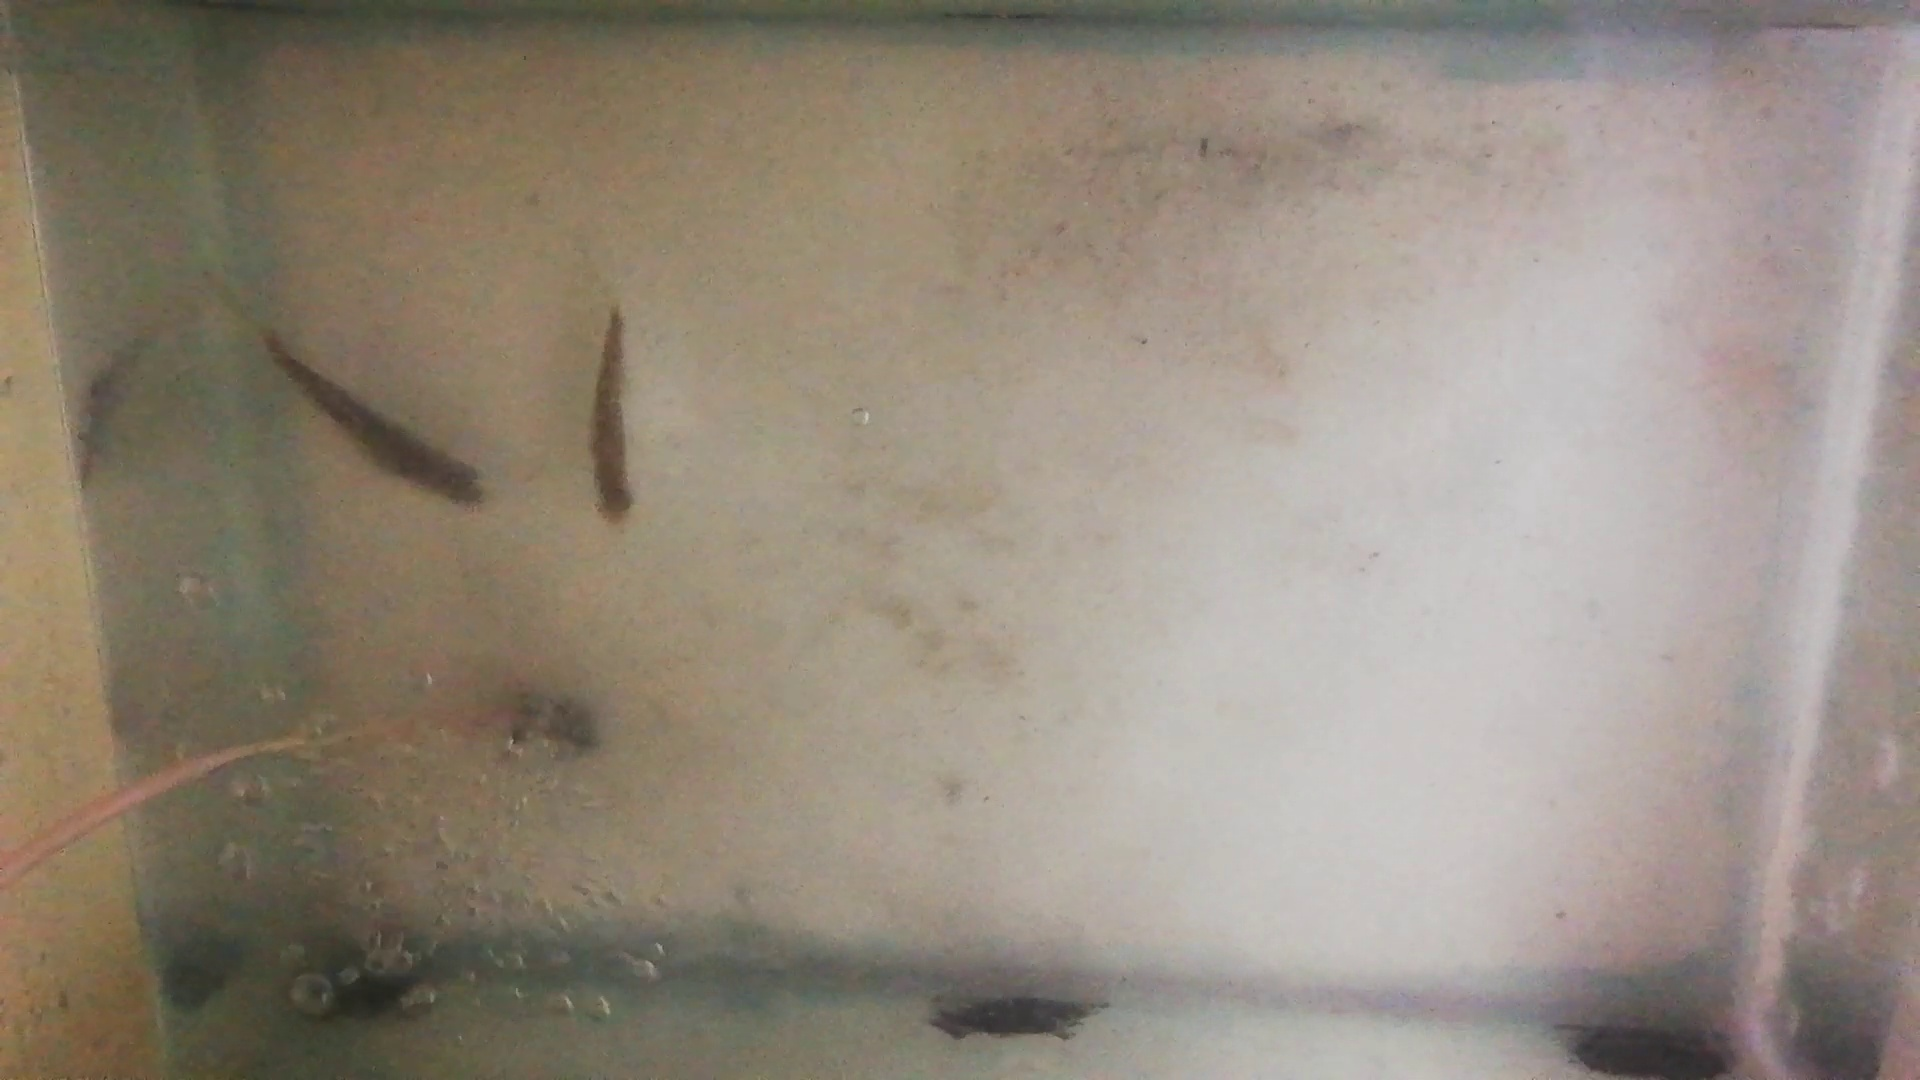fish: (256, 334, 491, 512), (589, 305, 640, 530)
